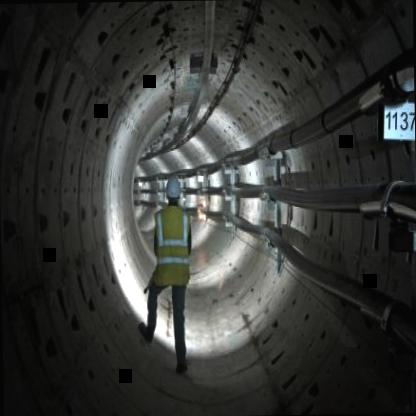helmet: (164, 174, 182, 208)
